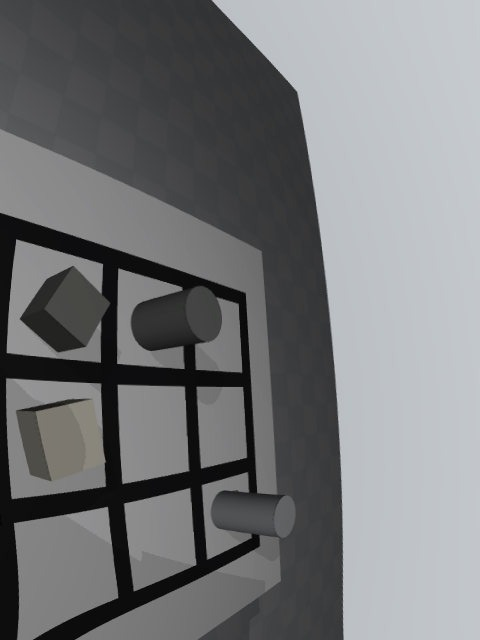can: (211, 491, 296, 538)
cube: (20, 266, 110, 352)
cylinder: (131, 286, 222, 351)
foam: (16, 399, 106, 482)
